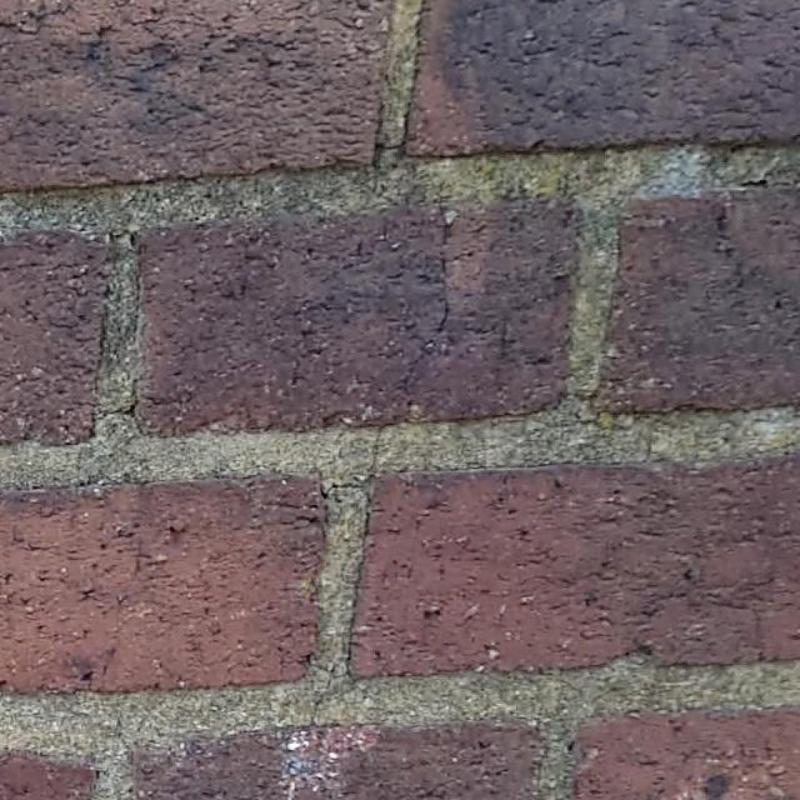pothole: (394, 209, 450, 393), (306, 659, 355, 728), (366, 422, 385, 475), (321, 481, 368, 496), (95, 405, 134, 416), (375, 142, 405, 151)
